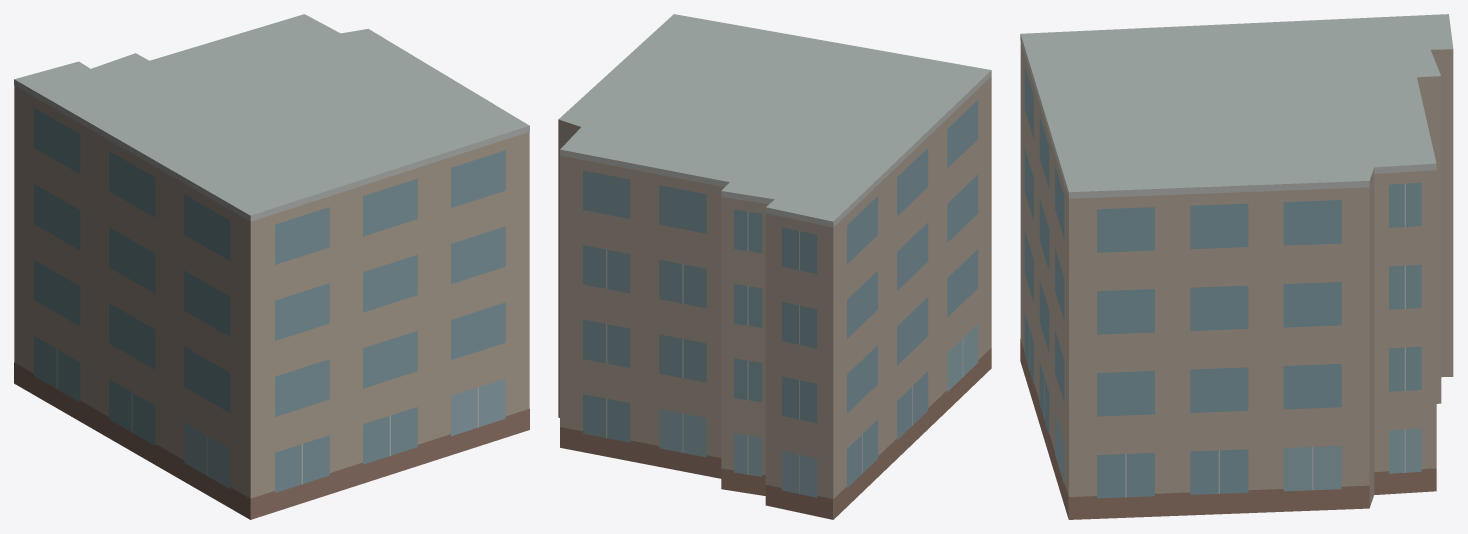
File: survey-upis-32651764.glb
The picture shows the model from 3 angles, left to right: view 1: azimuth 30°, elevation 25°; view 2: azimuth 150°, elevation 25°; view 3: azimuth 270°, elevation 25°; orthographic projection. The views are drawn at different scales.
Visible parts, largest first — view 1: survey-upis-32651764.tmp; view 2: survey-upis-32651764.tmp; view 3: survey-upis-32651764.tmp.
Boxes of the visible parts, x1,y1,x2,y2 form: survey-upis-32651764.tmp: (14, 14, 529, 519); survey-upis-32651764.tmp: (558, 14, 991, 519); survey-upis-32651764.tmp: (1020, 14, 1453, 519).
Size of the model in its own units: 14.24 by 12.2 by 14.62.
